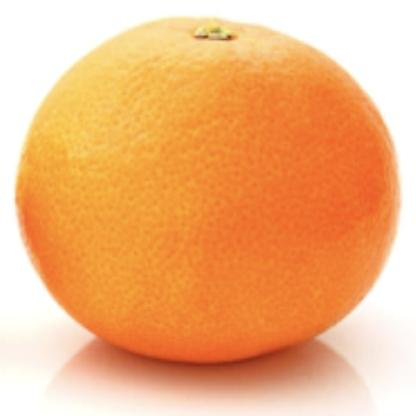fresh: (17, 16, 401, 364)
